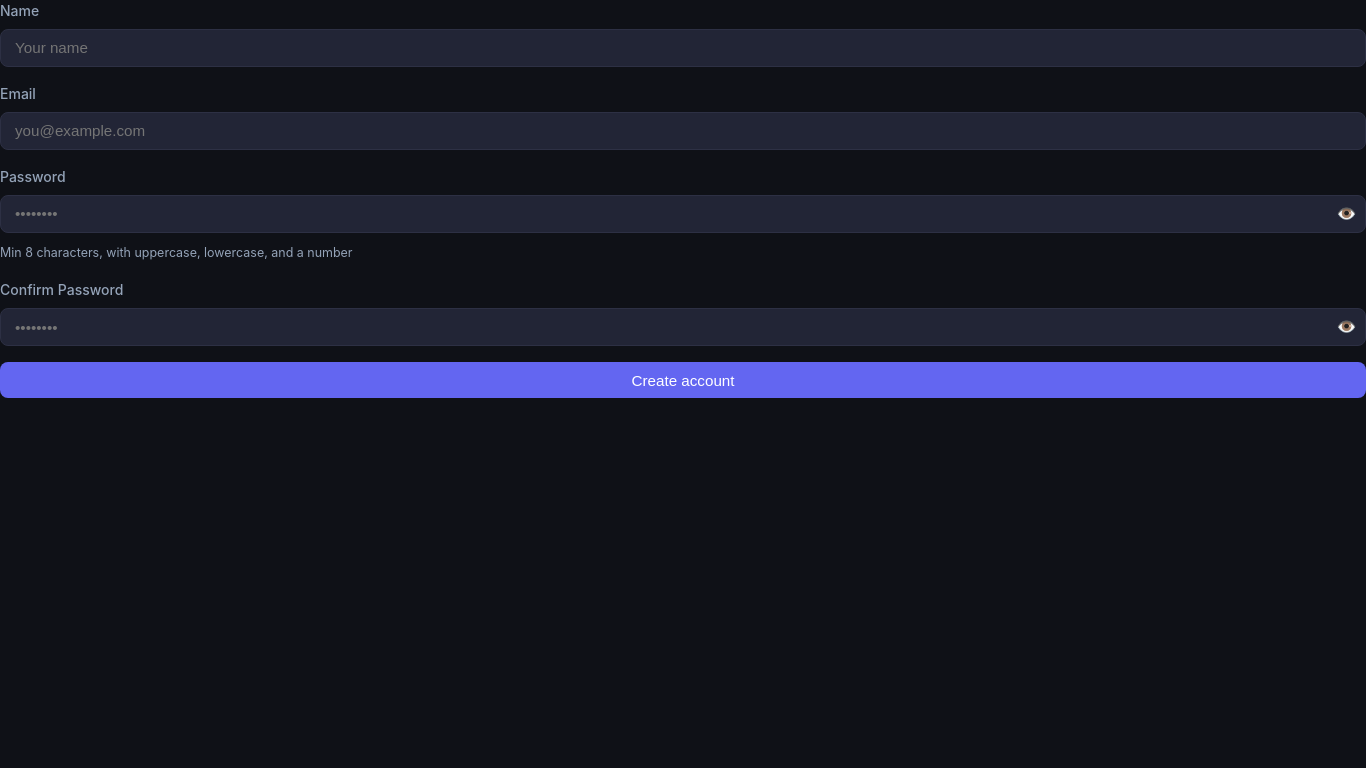
Scenario: SignupForm › shows loading state while request is in flight
Type "Eve" into the field labelled "Name".
click(683, 48); type("Eve")  # box [0,29,1365,67]
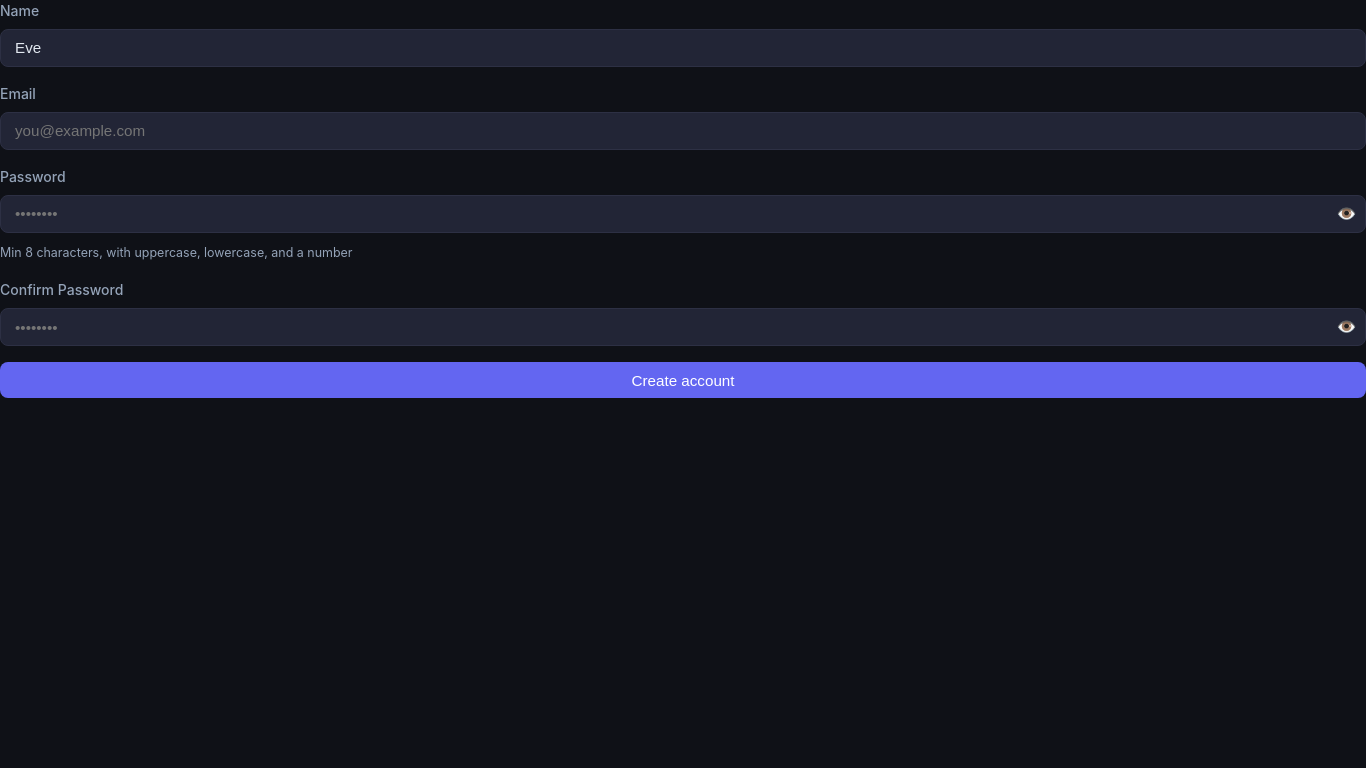
Type "eve@example.com" into the field labelled "Email".
click(683, 131); type("eve@example.com")  # box [0,112,1365,150]
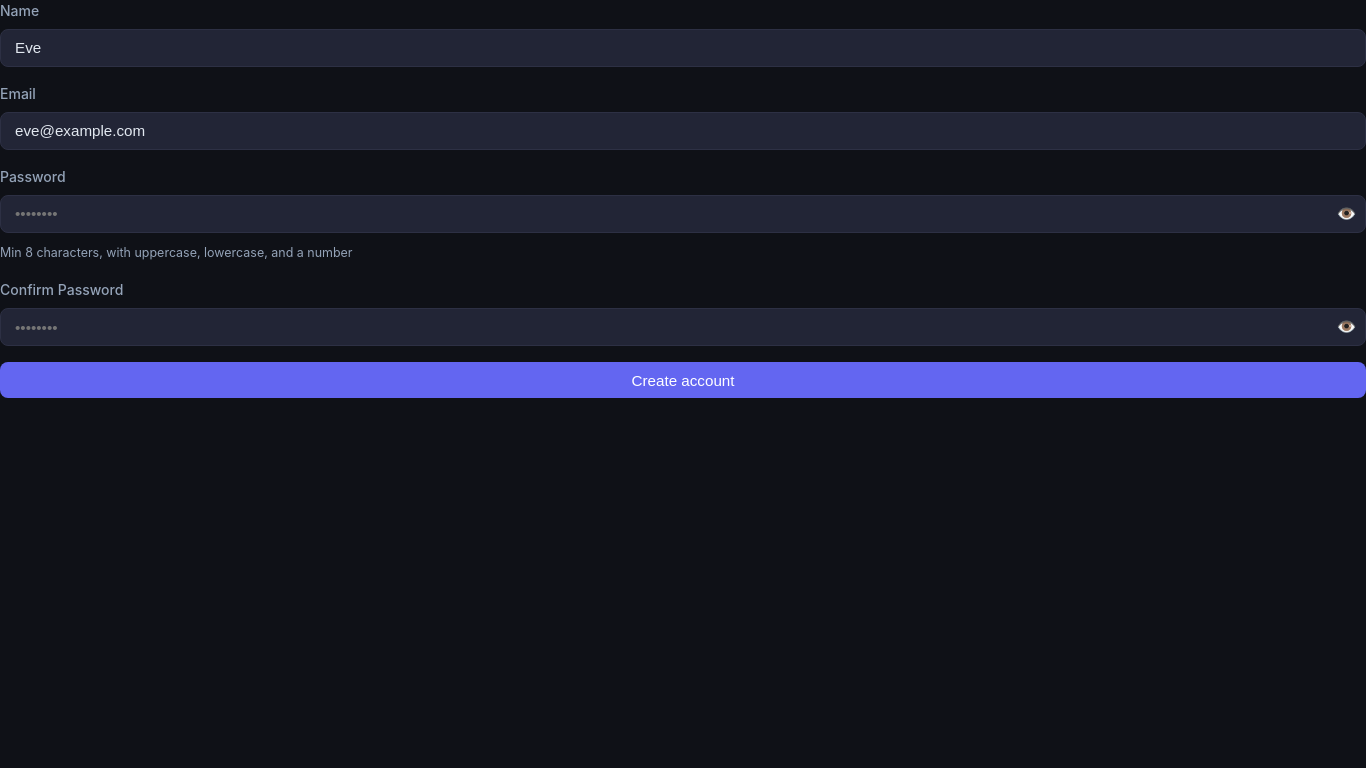
Type "password123" into the password field labelled "Password".
click(683, 214); type("password123")  # box [0,195,1365,233]
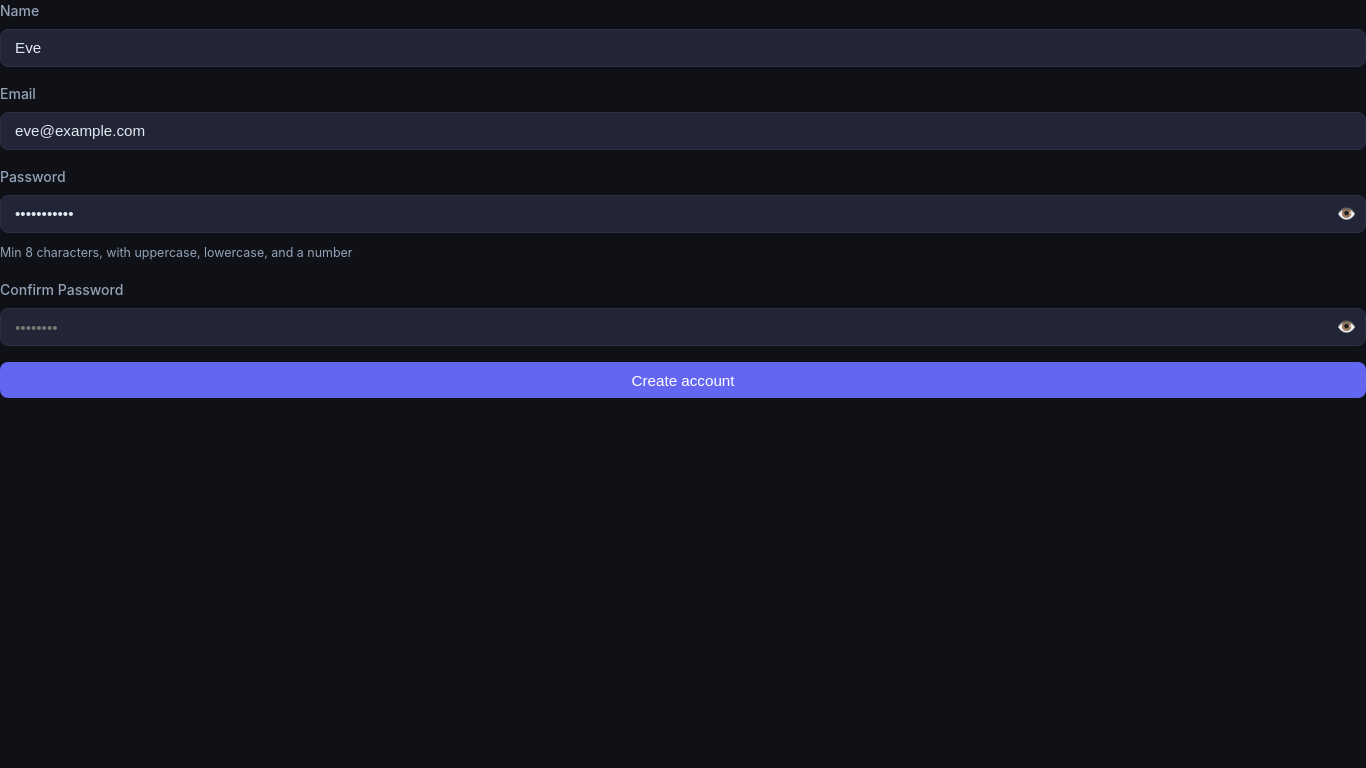
Type "password123" into the password field labelled "Confirm Password".
click(683, 327); type("password123")  # box [0,308,1365,346]
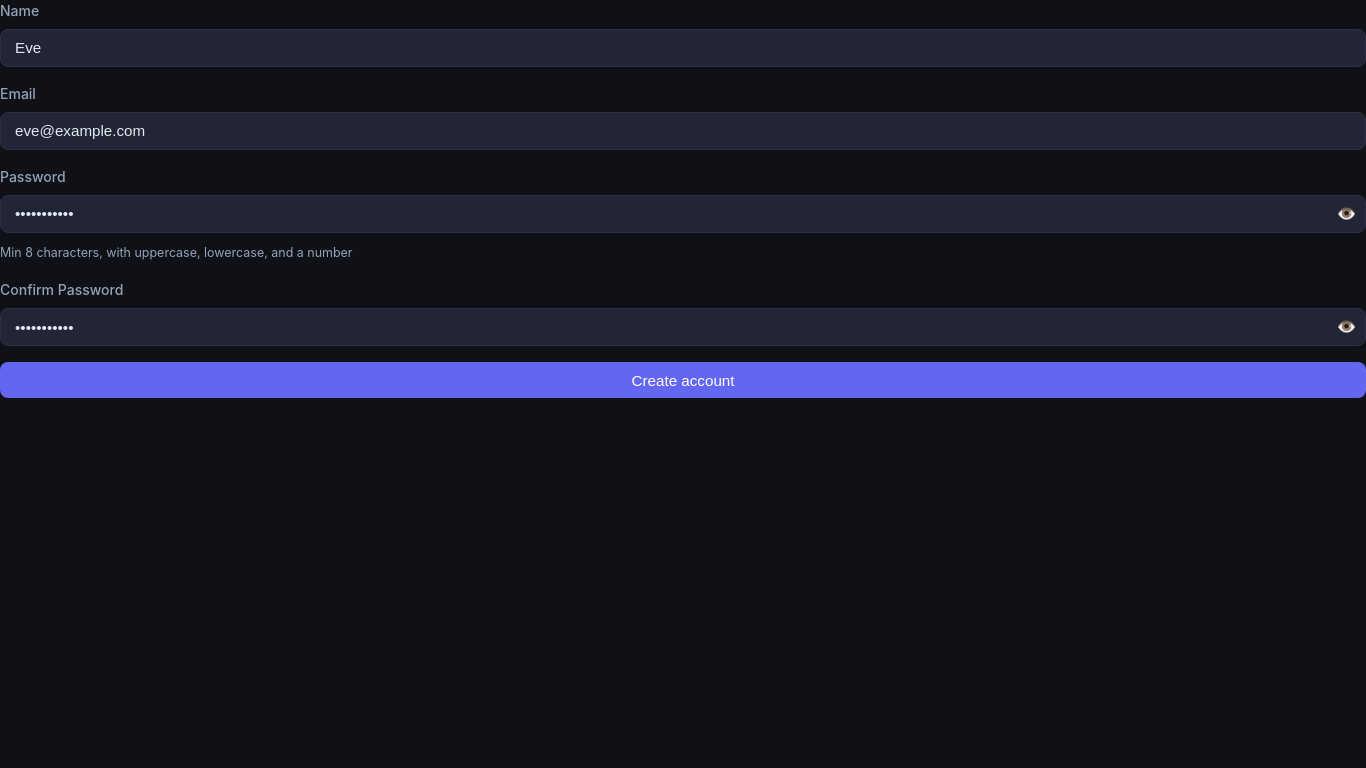
Click the button "Create account".
click(683, 380)  # box [0,362,1365,398]
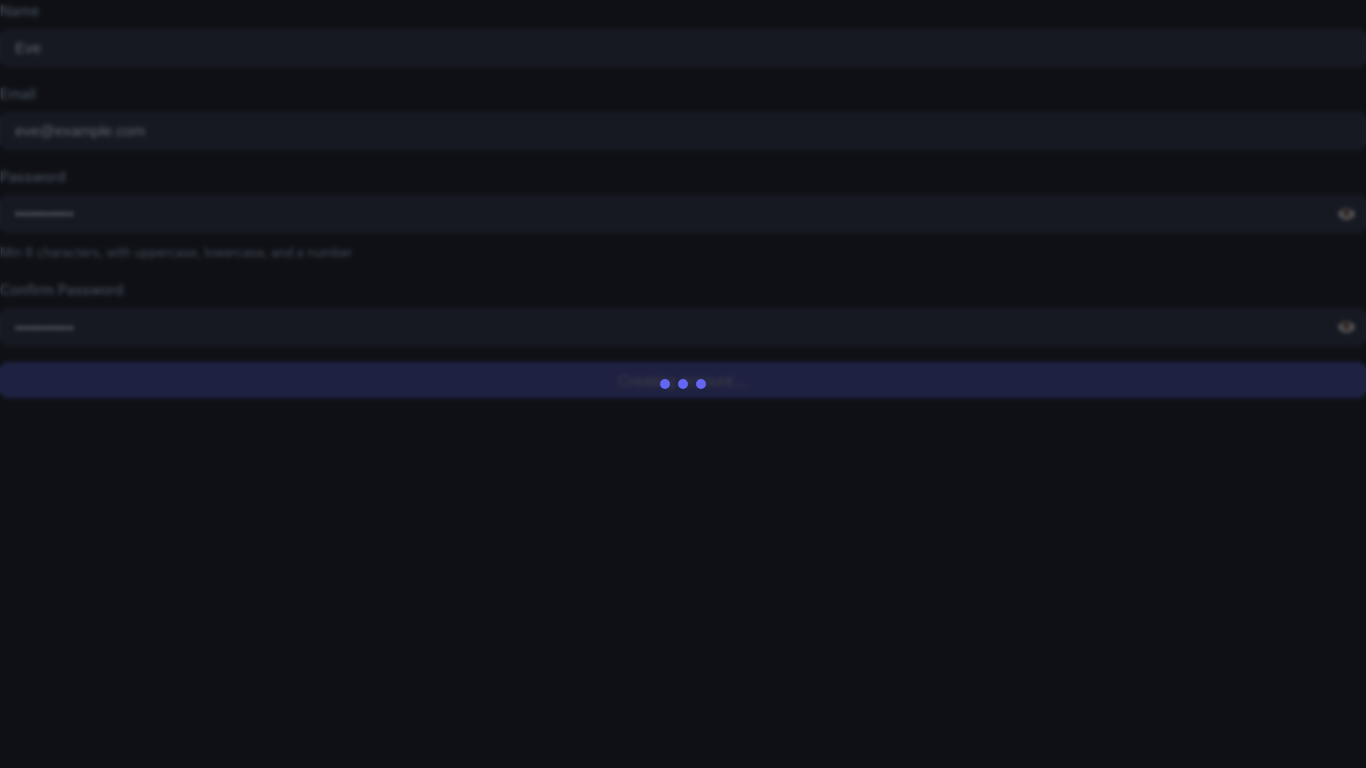
expect the button "Creating account…" is disabled: met, box [0,362,1365,398]
